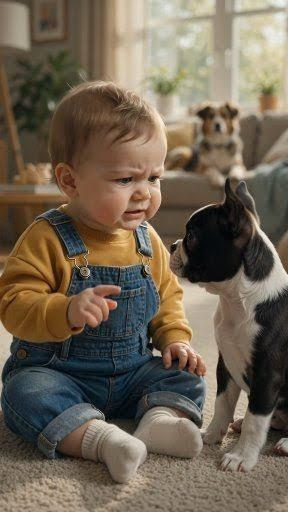adult_dog: (167, 101, 247, 187)
non-dog: (0, 79, 208, 486)
puppy-dog: (171, 179, 288, 475)
